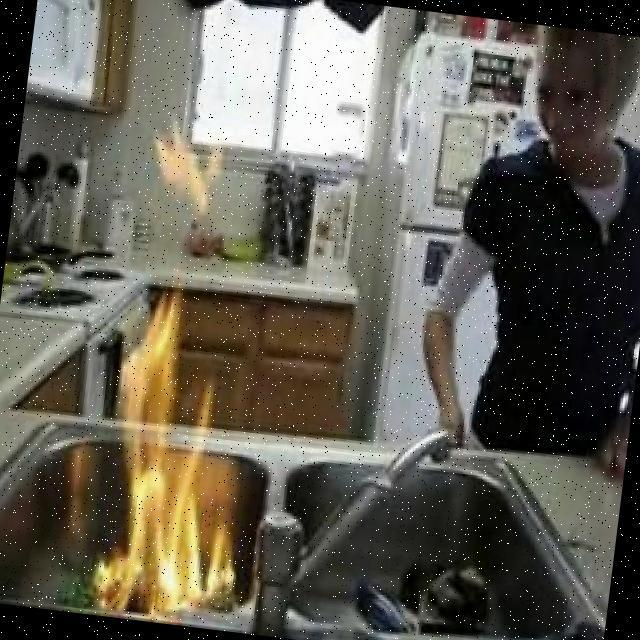Fire: (86, 275, 263, 625), (145, 115, 244, 228)
